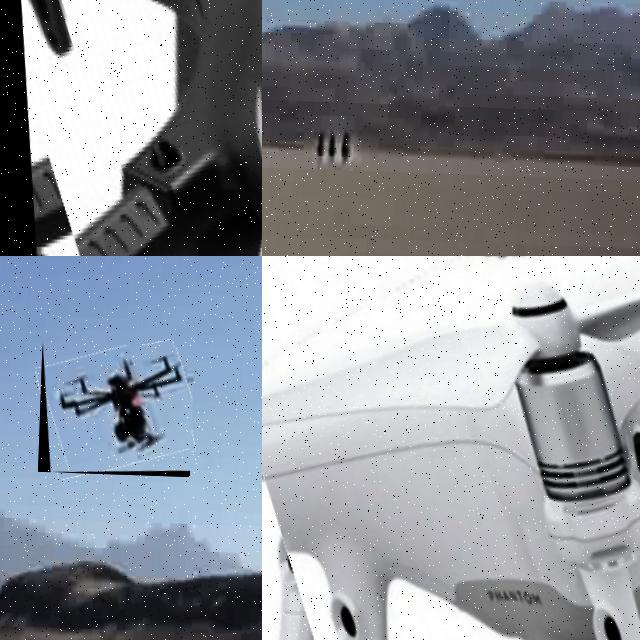0: (38, 342, 194, 476)
drone: (262, 256, 640, 640), (0, 0, 262, 256)
